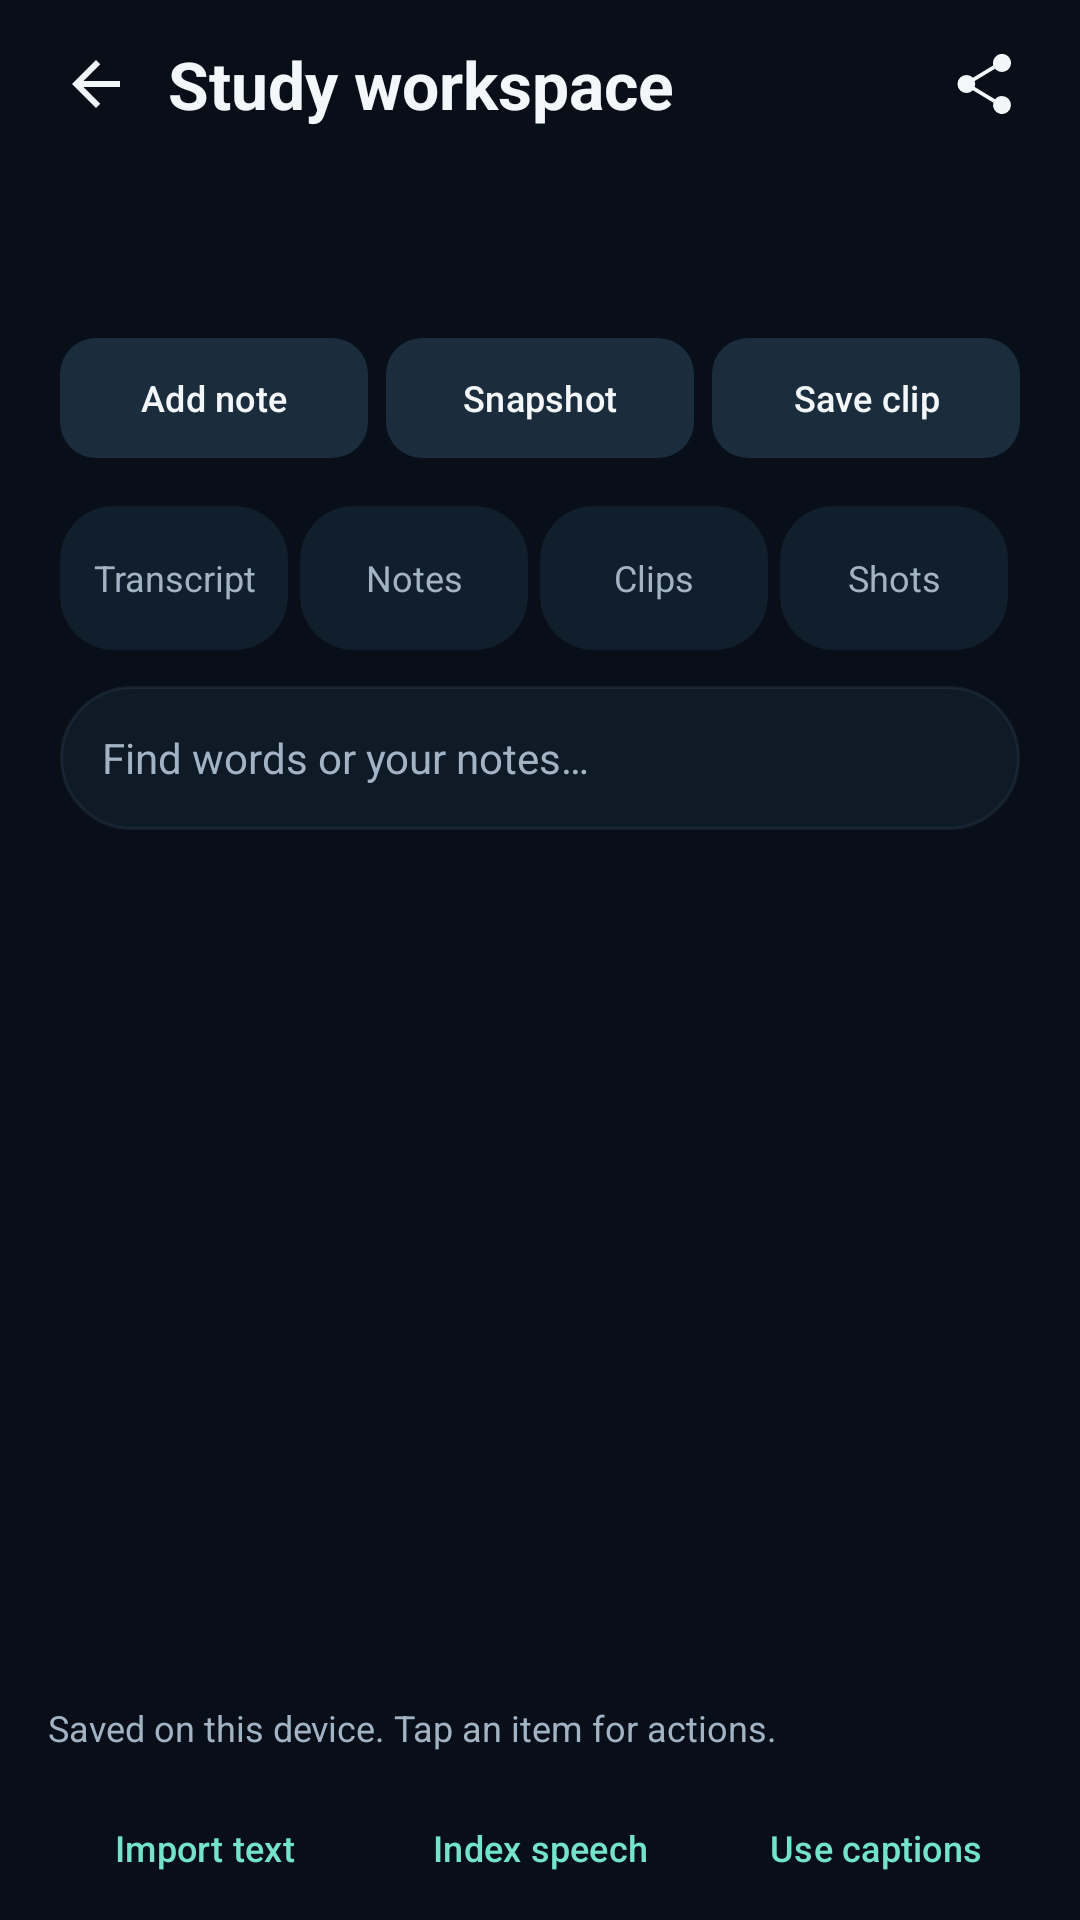

Where to tap for icons on this 1080*1920 app screen, as (x=x, y=y):
Back: (x=96, y=84)
Export notes: (x=984, y=84)
